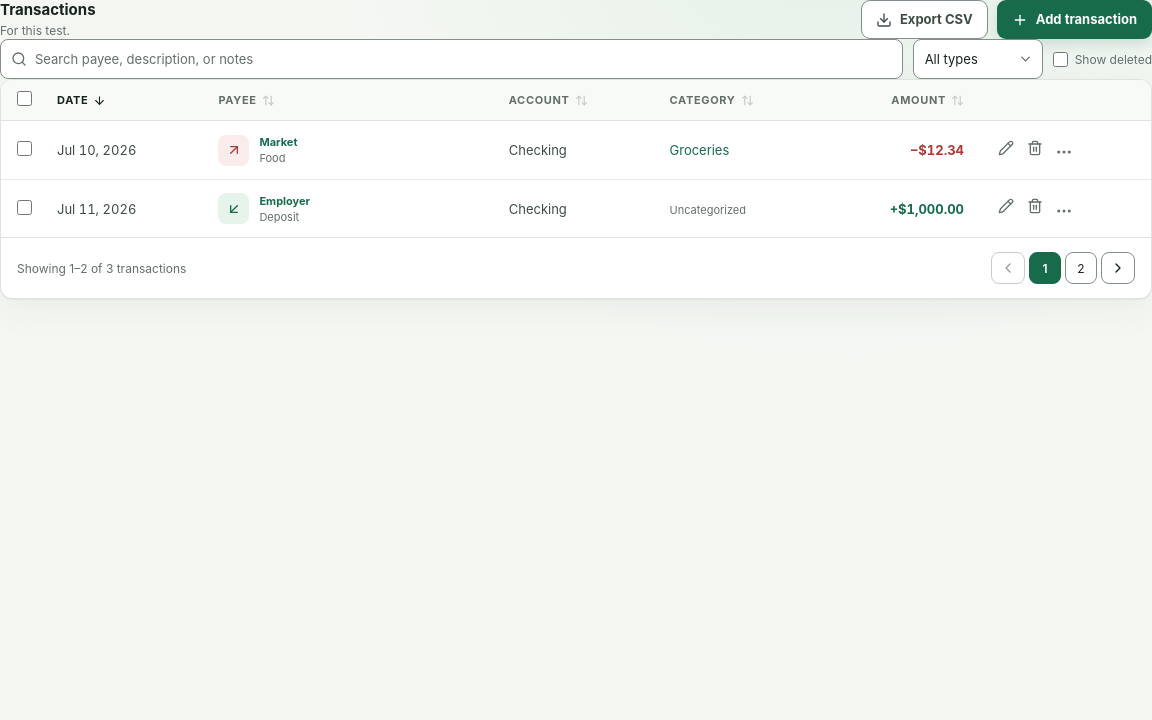
Scenario: transaction mass selection › keeps a selection across renders that leave the filter alone
Click the checkbox named "Select transaction " at (24, 149), box 16,141 -> 32,156
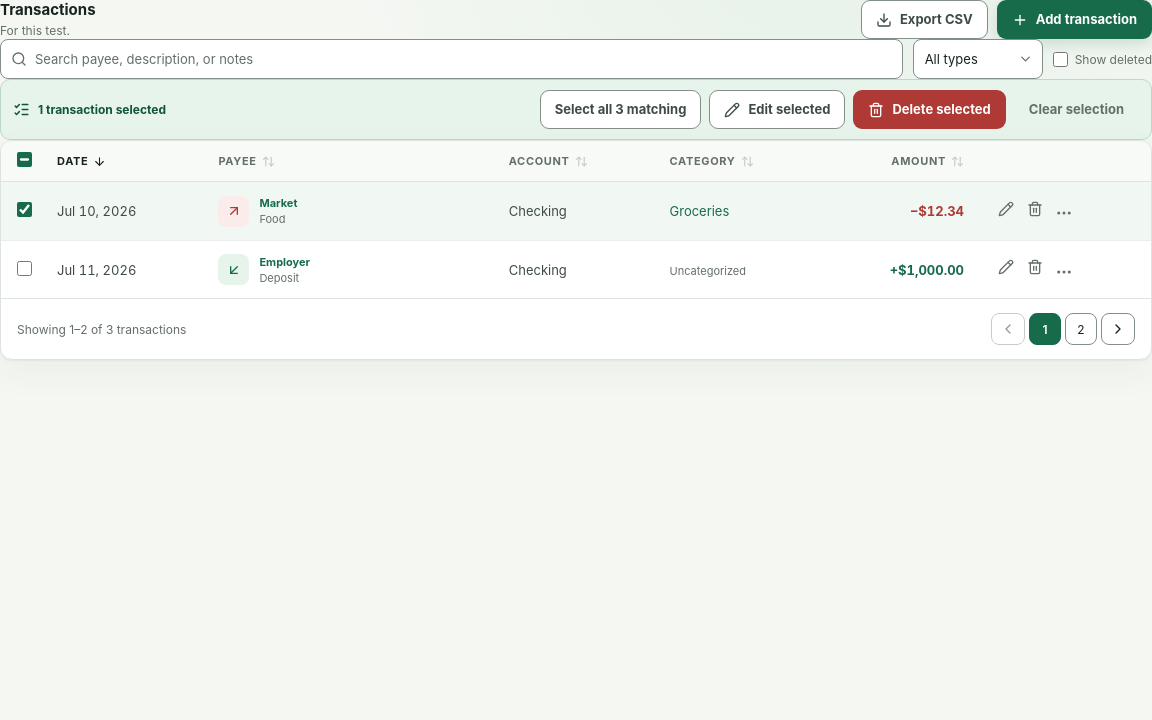
Click the checkbox named "Select transaction " at (24, 268), box 16,261 -> 32,276
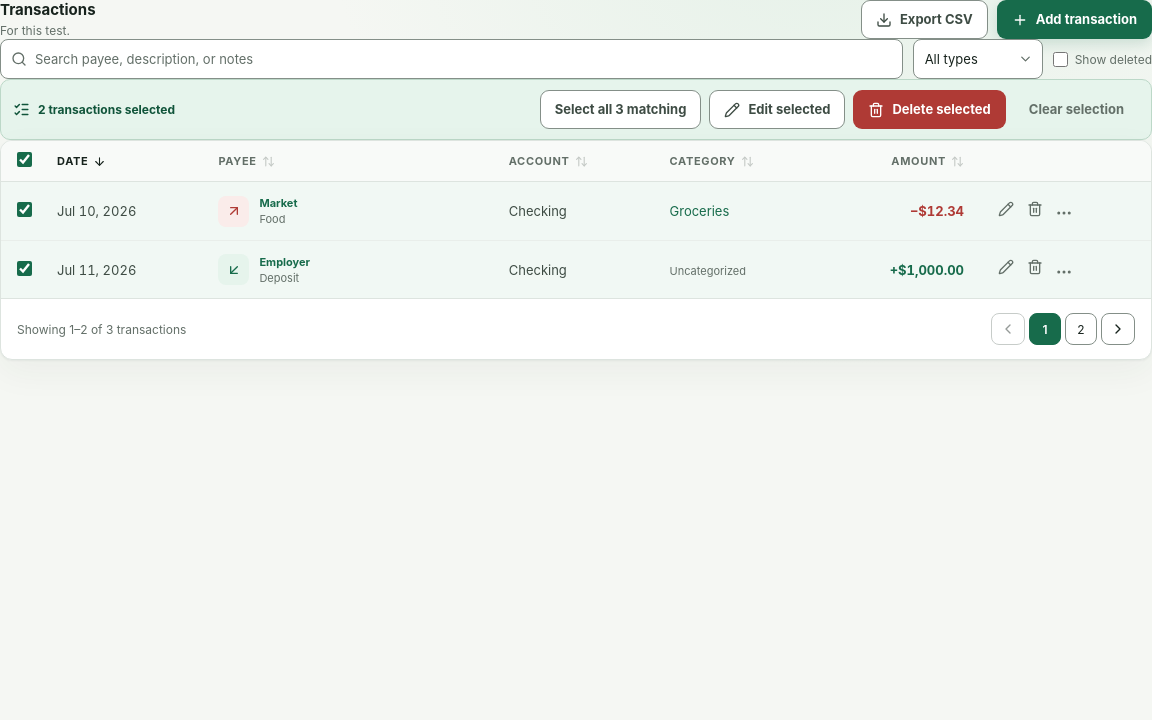
Expected: the text "2 transactions selected" is shown, 38,102 -> 175,117
Click the button "Edit selected" at (777, 110), box 709,90 -> 845,129
(page scrolled)
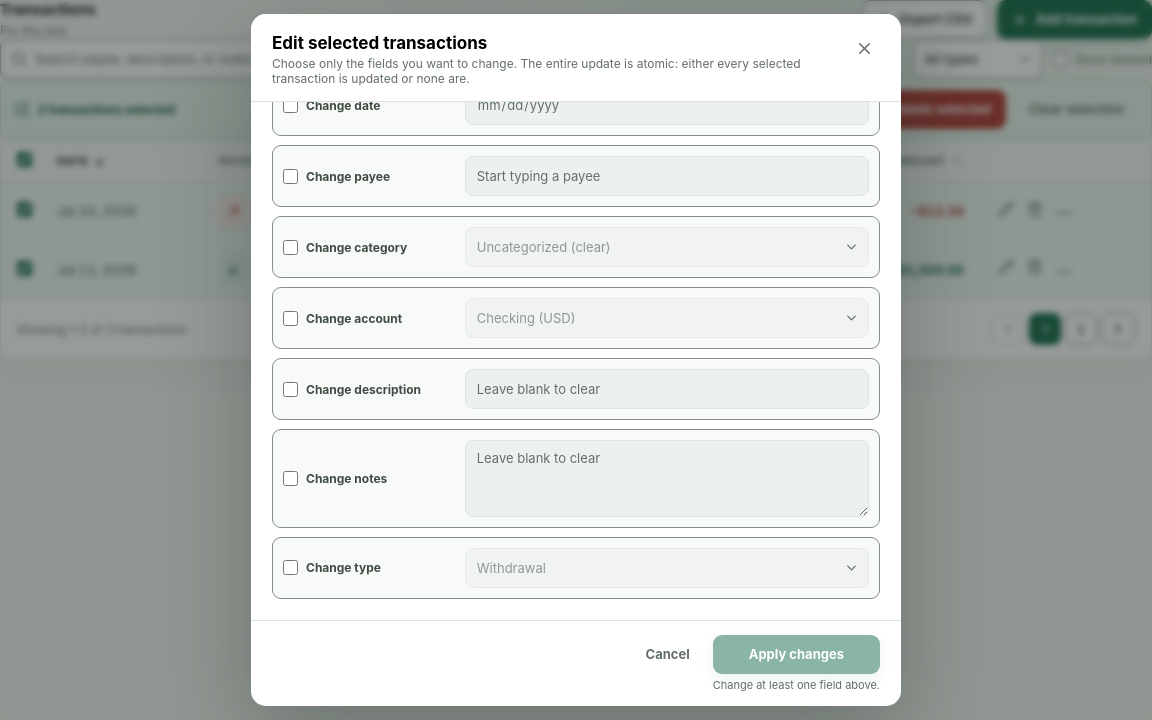
Expected: the text "2 transactions selected" is shown, 38,102 -> 175,117
Click the button "Cancel" at (668, 654), box 630,634 -> 705,674
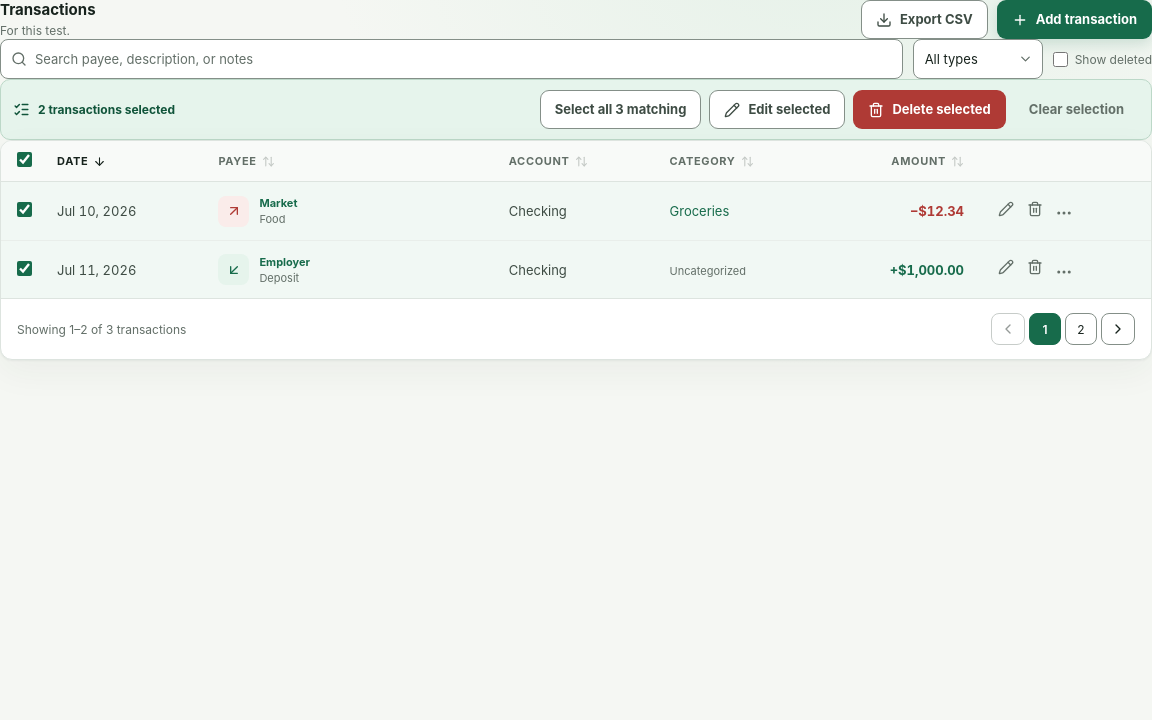
Expected: the text "2 transactions selected" is shown, 38,102 -> 175,117
Select "Deposits" in the dropdown named "Filter by type" at (978, 59), box 913,39 -> 1043,79
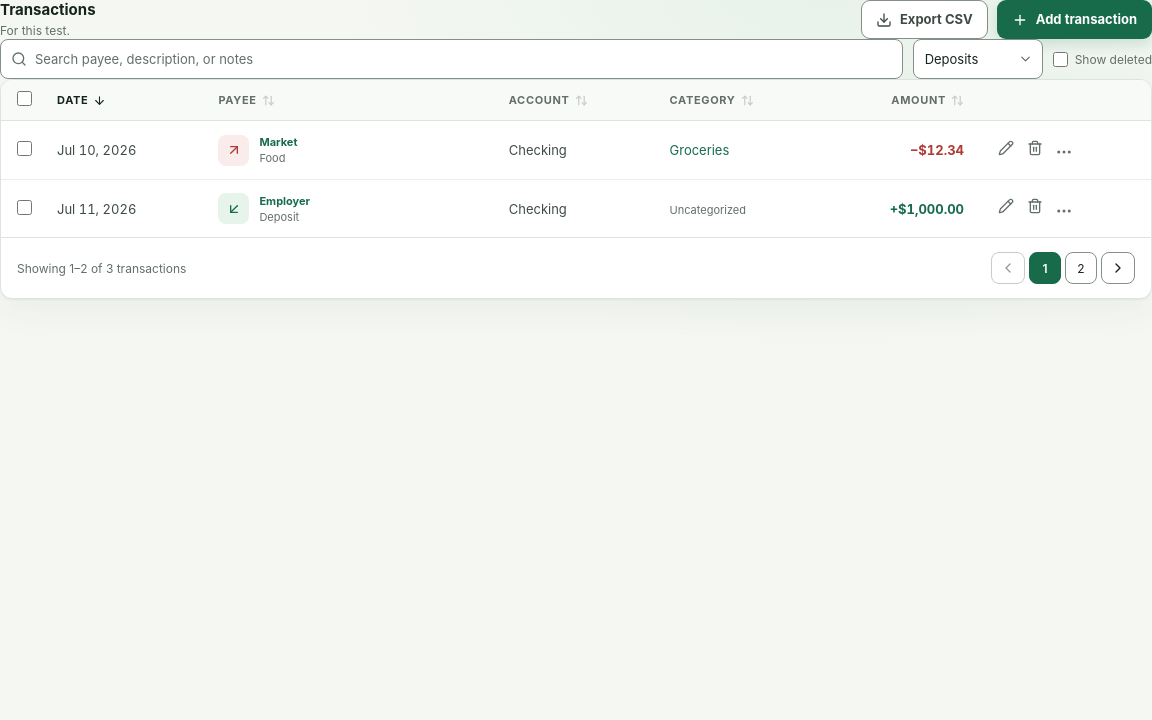
Expected: the text "transactions selected" is gone
